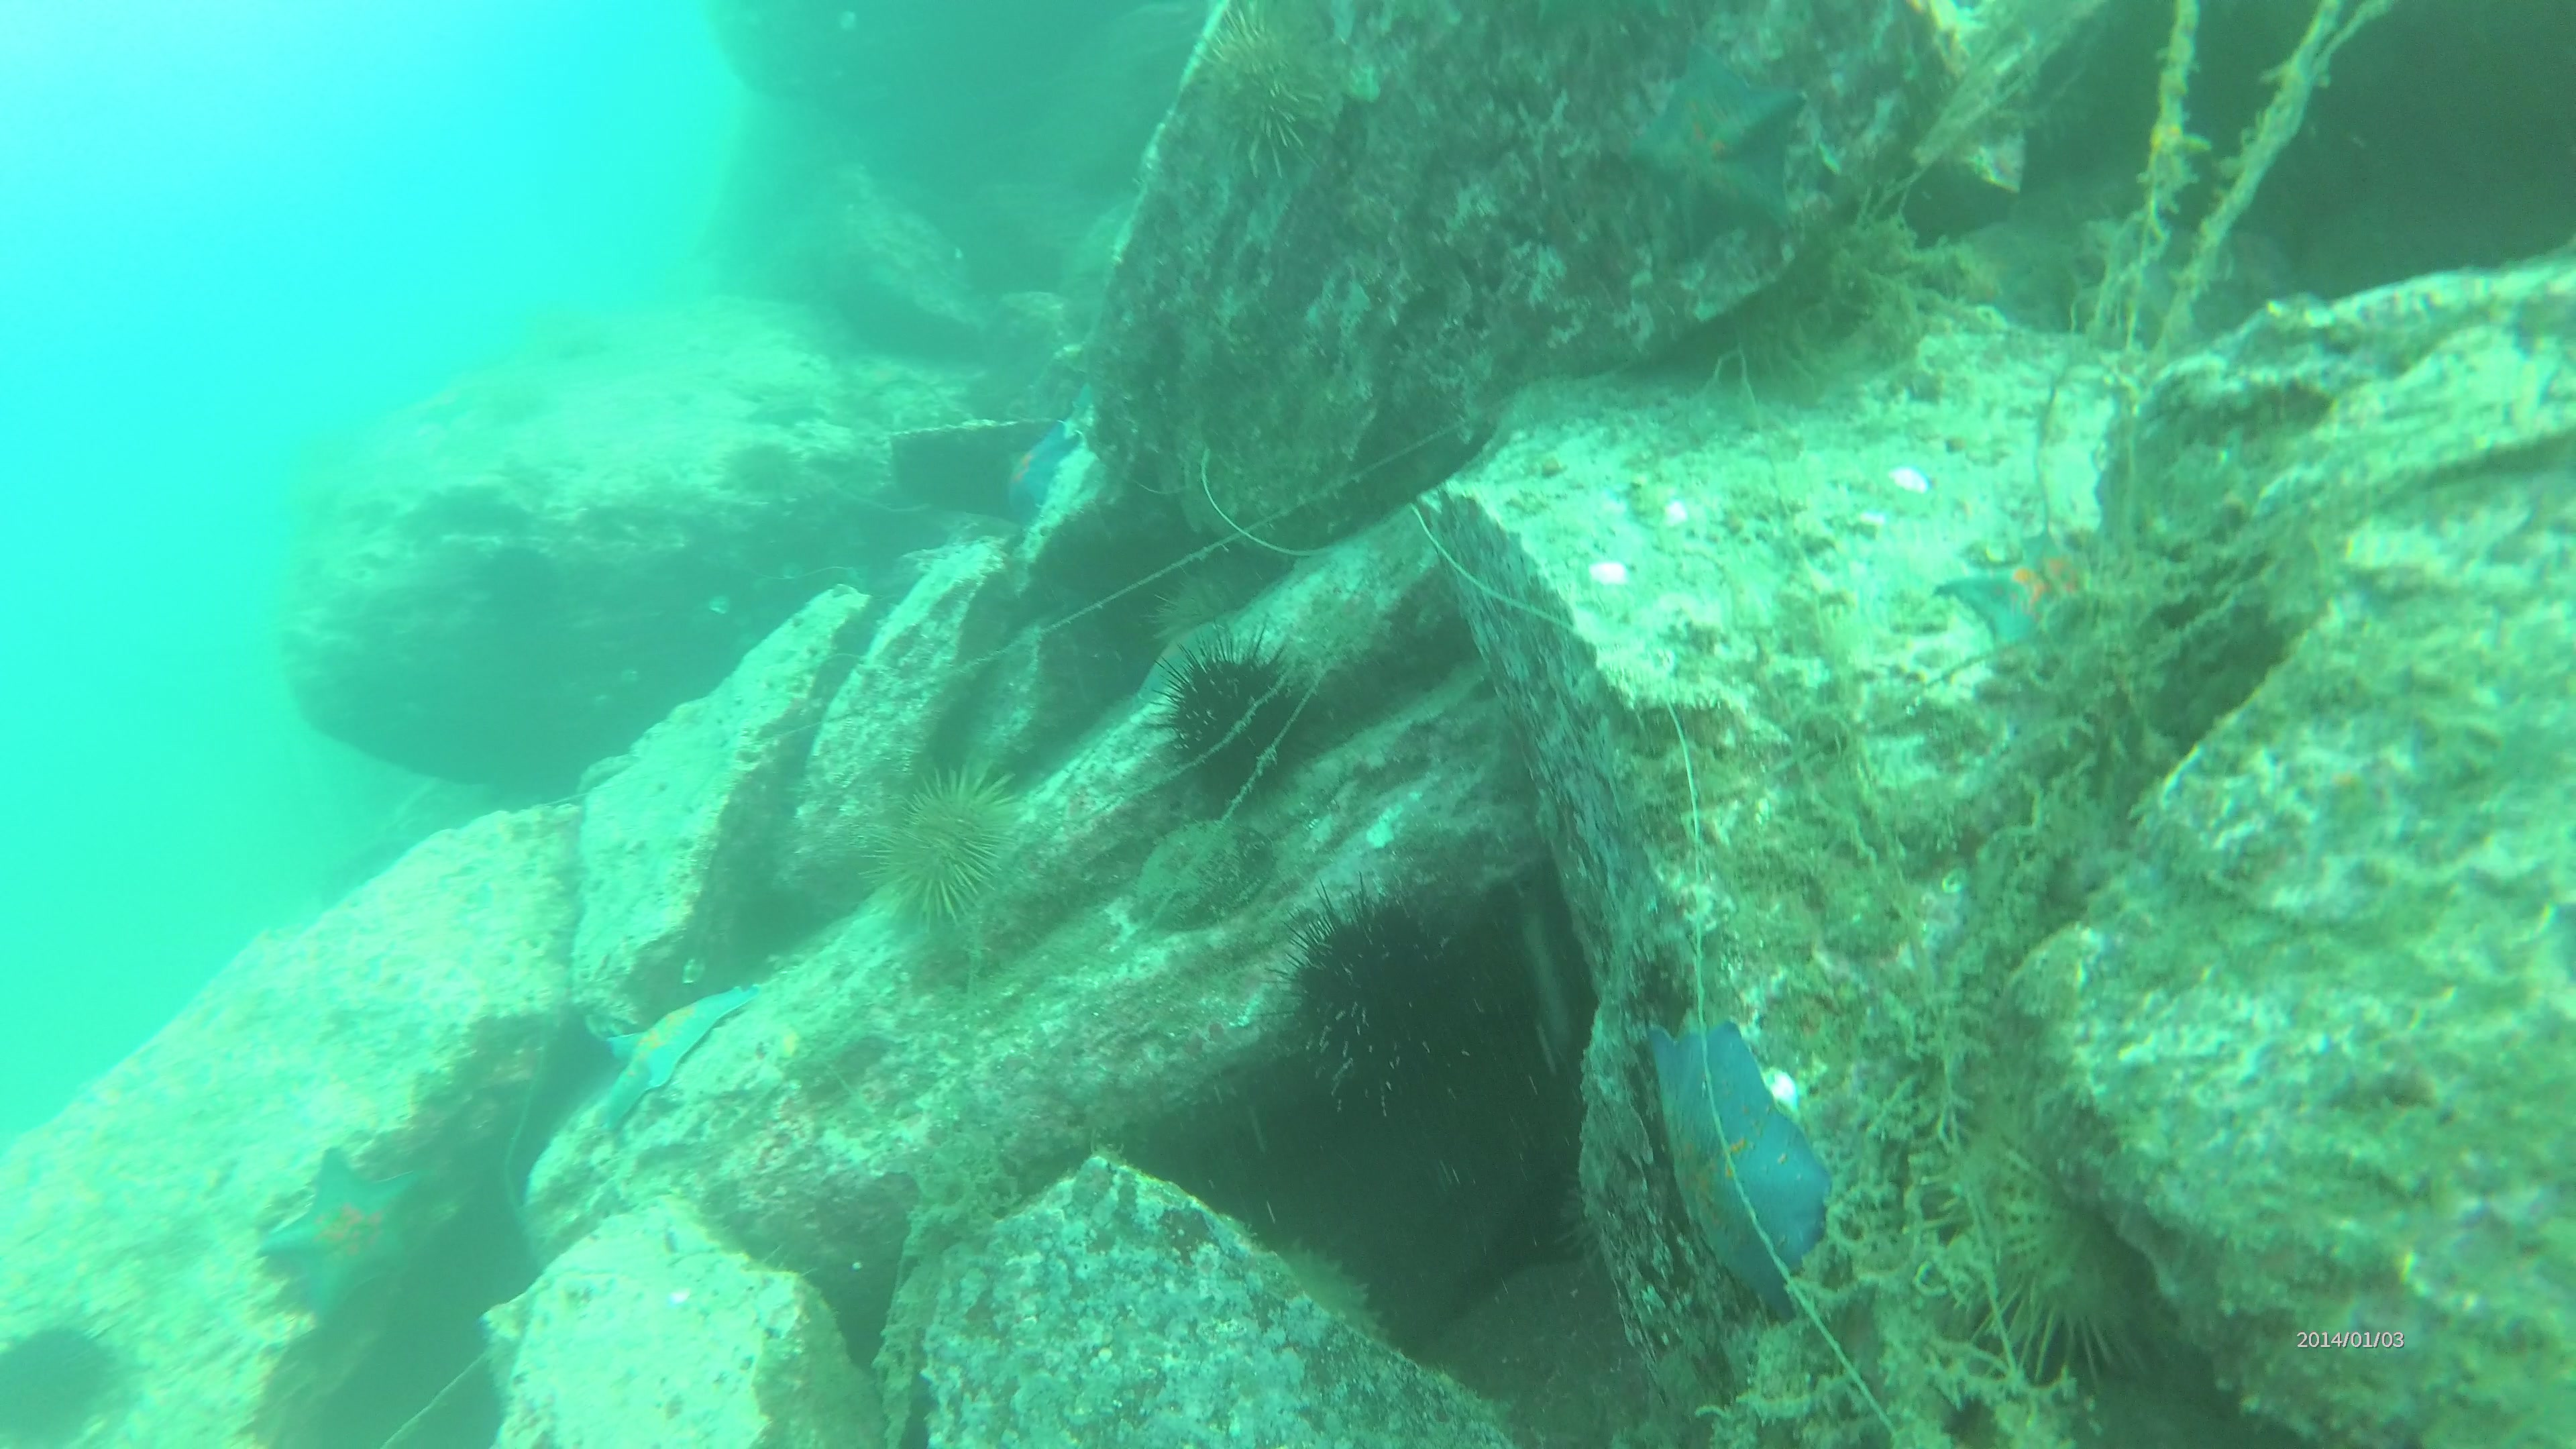echinus: (1948, 1079, 2144, 1378), (1281, 901, 1481, 1116), (1191, 0, 1348, 179), (1152, 648, 1315, 801), (872, 773, 1024, 922), (4, 1322, 134, 1449), (488, 540, 566, 625)
starfish: (1642, 1019, 1835, 1299), (1610, 32, 1806, 255), (257, 1161, 425, 1316), (602, 993, 743, 1134), (1936, 529, 2097, 653), (1000, 418, 1085, 527)
